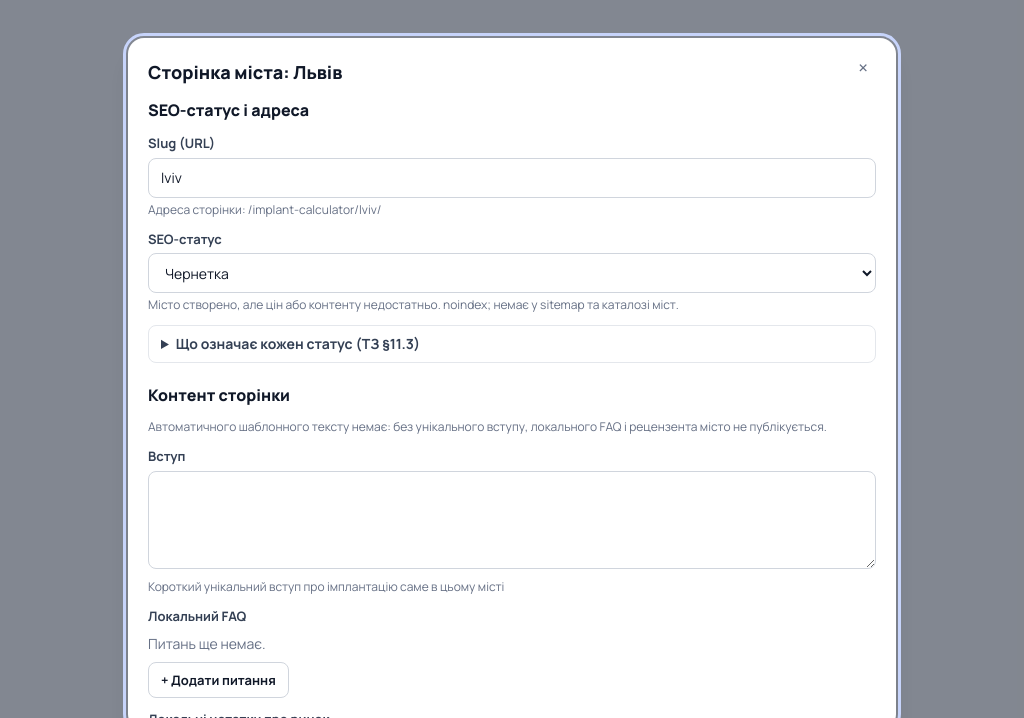
Test: CityPageDialog › shows the ТЗ help text for the chosen status and supports FAQ add/remove
Expected: the text "noindex; немає у sitemap" is shown, [148,296,679,313]
Click the button "+ Додати питання" at (218, 680), box [148,662,289,698]
(page scrolled)
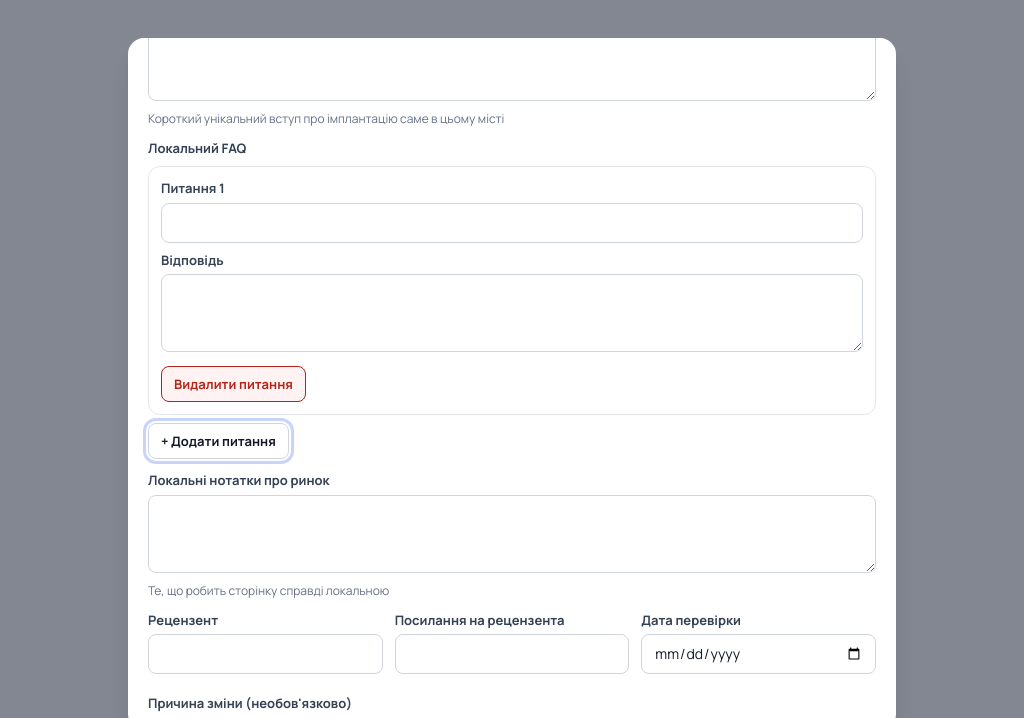
Expected: the field labelled "Питання 1" is shown, [161,203,863,243]
Click the button "Видалити питання" at (233, 384), box [161,366,306,402]
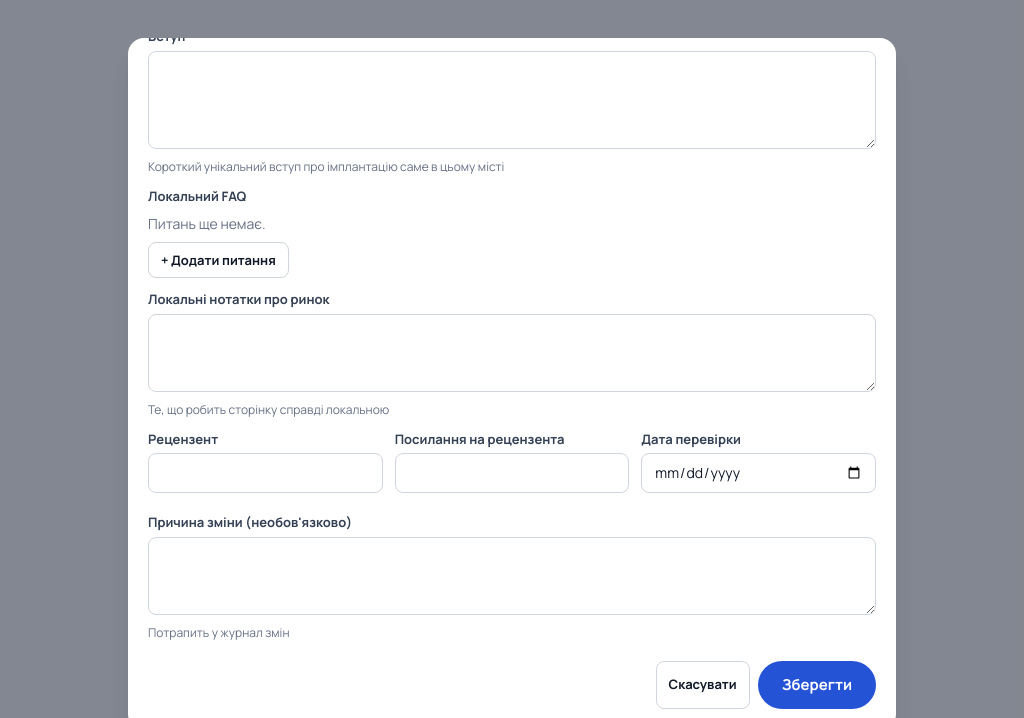
Expected: the label labelled "Питання 1" is gone
